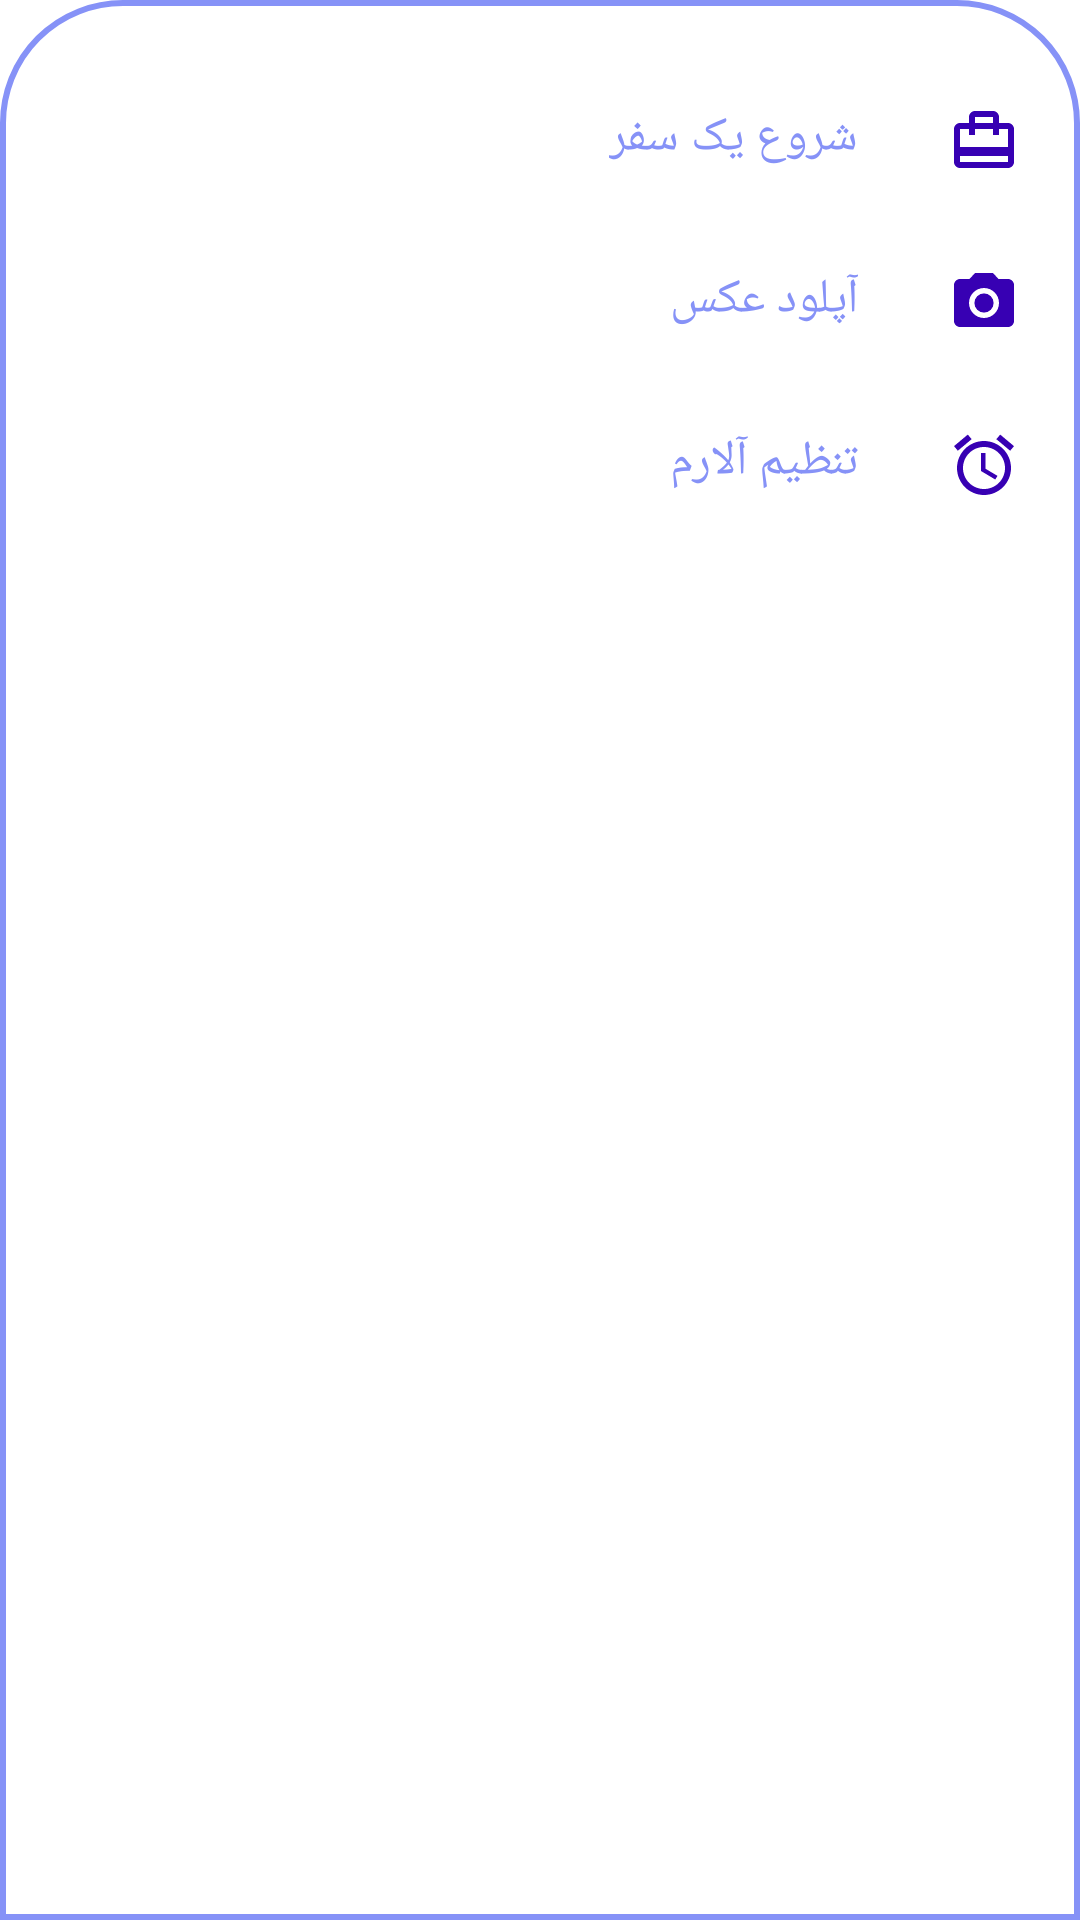

Where to tap for icons on this 1080px×1920px app screen, as point (x, y):
alarm: point (984, 464)
camera: point (984, 300)
card travel: point (984, 139)
